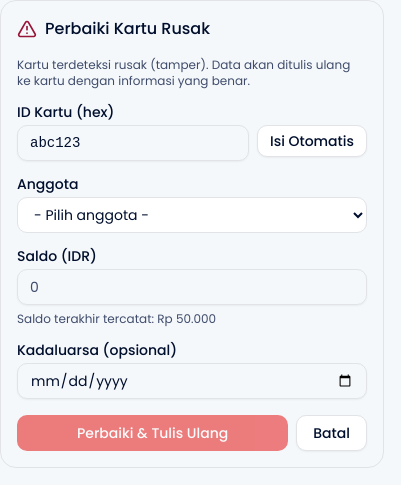
Test: StationFixCardPanel - form phase › prefills data when Isi Otomatis clicked
What coordinates should you click on to do the following:
click the button "Isi Otomatis"
I would click on:
 (312, 141)
Its box is [257, 125, 367, 157].
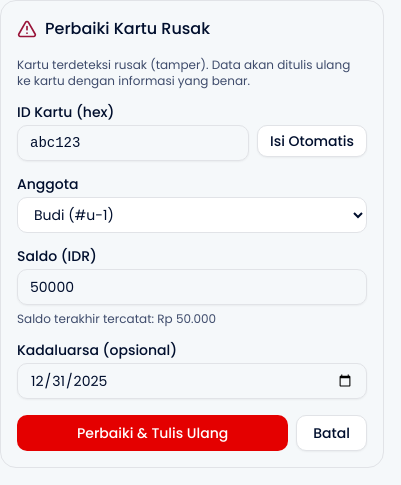
Expected: the number field with placeholder "0" holds "50000", [17, 269, 367, 305]
